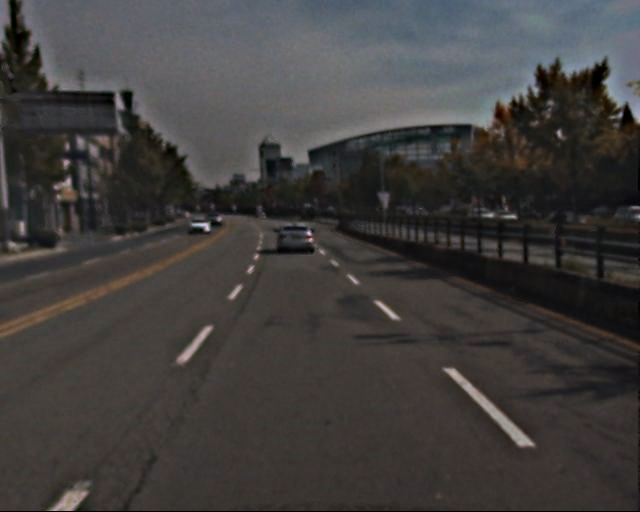person: (549, 204, 572, 260)
